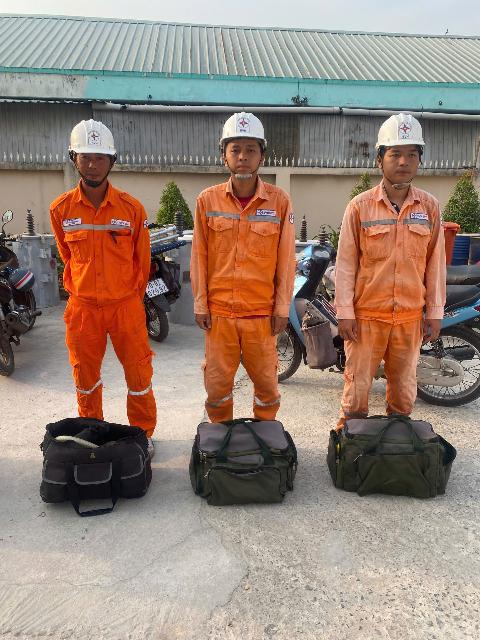helmet: (52, 114, 126, 163), (360, 107, 430, 154), (219, 107, 271, 144)
